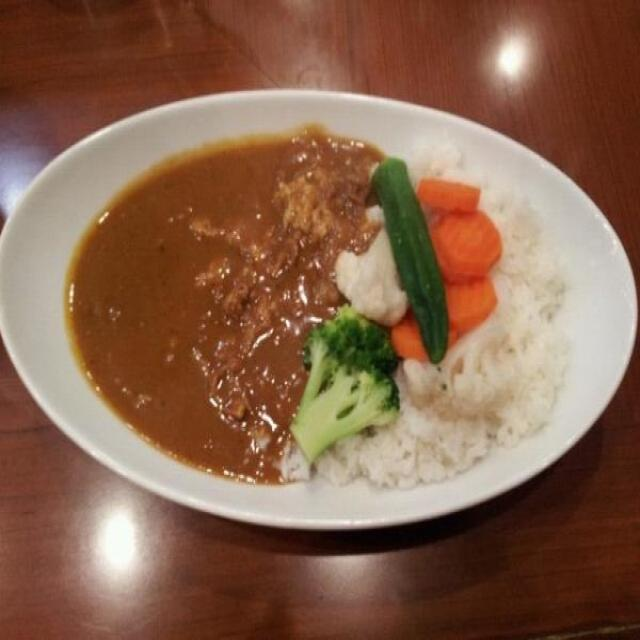Beef Curry: (98, 124, 366, 477)
